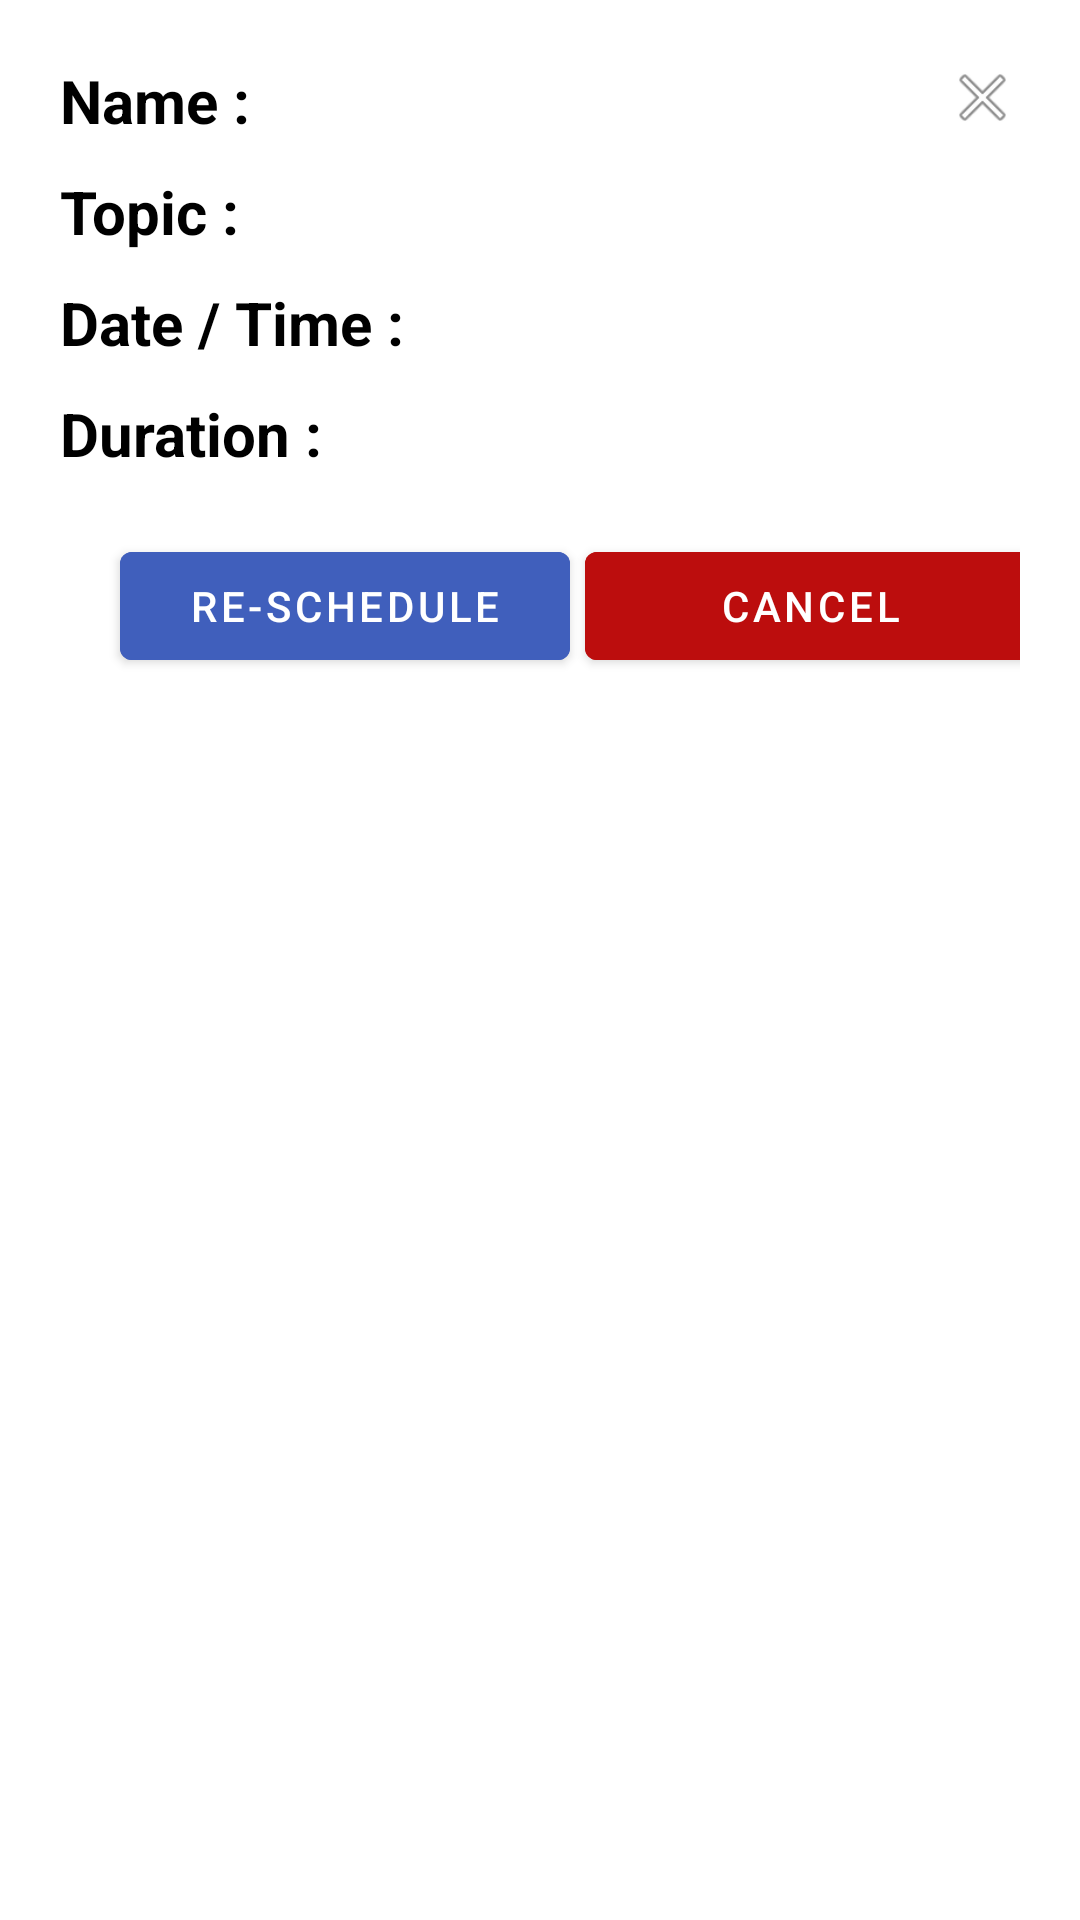

Screen size 1080w x 1920h. Icon name, then its box in pixels as (x1, y1, x2, y2):
close clear cancel: (959, 74, 1006, 121)
